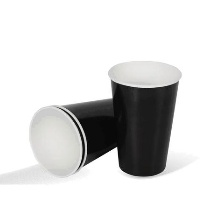paper_cup: (104, 53, 187, 180), (23, 92, 139, 180)
